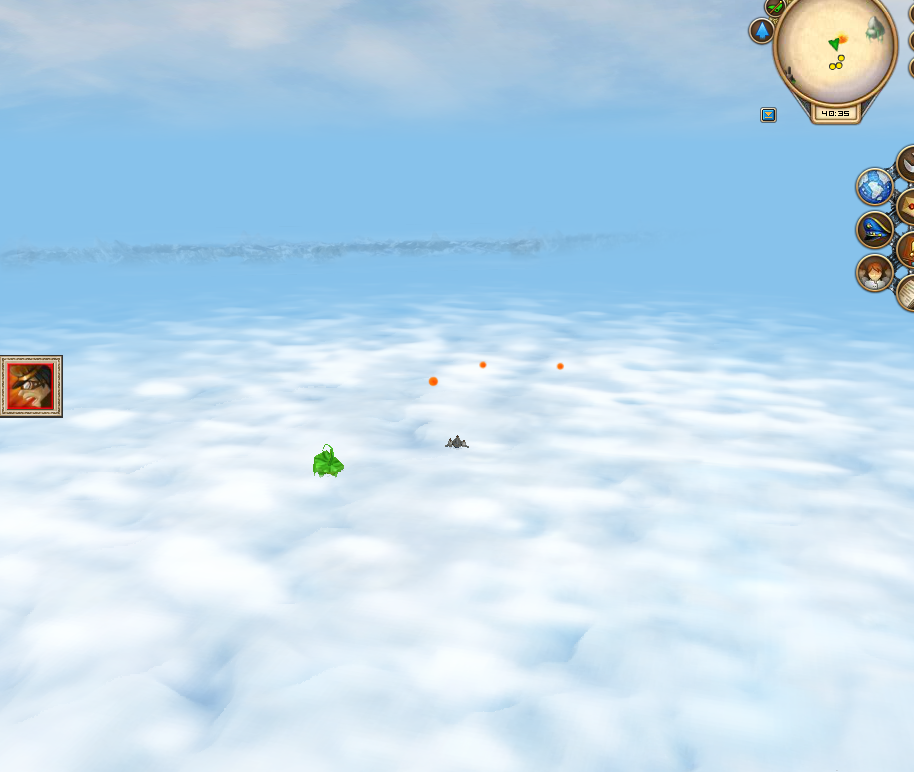dandelion-empty: (307, 441, 347, 479)
fluff: (553, 361, 566, 372), (429, 375, 439, 388), (477, 359, 488, 370)
